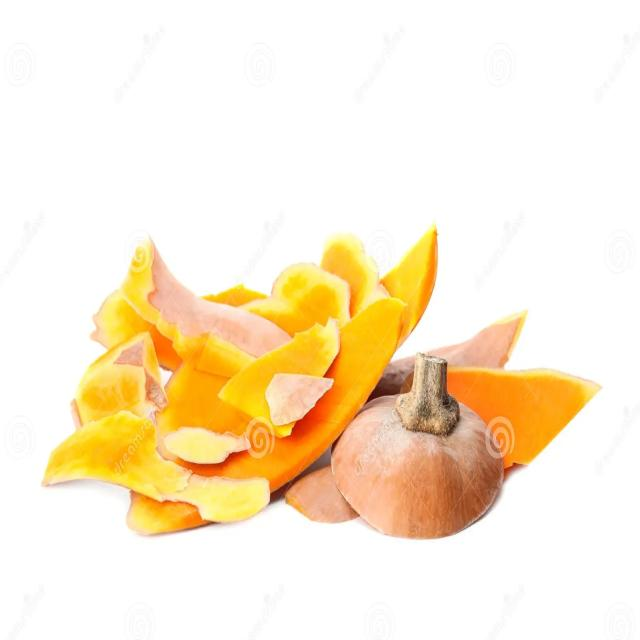Wet: (330, 352, 505, 540), (41, 410, 270, 525), (265, 372, 334, 427), (162, 426, 251, 464)
